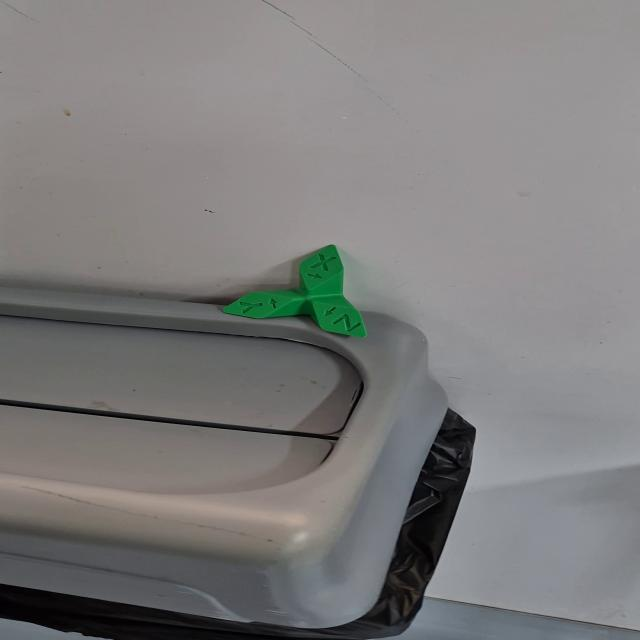objects: (220, 243, 370, 340)
